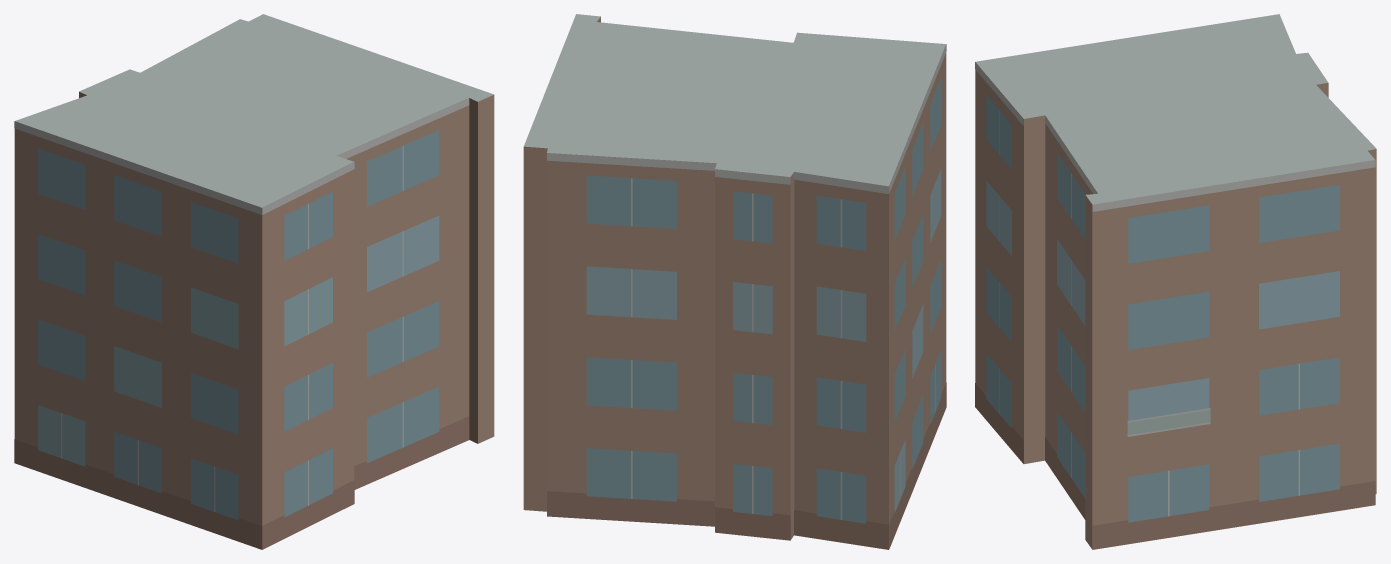
The model's file is survey-upis-32852981.glb.
3 renders of one model, left to right at view 1: azimuth 30°, elevation 25°; view 2: azimuth 150°, elevation 25°; view 3: azimuth 270°, elevation 25°, orthographic. The views are drawn at different scales.
Parts seen in each view (by area): view 1: survey-upis-32852981.tmp; view 2: survey-upis-32852981.tmp; view 3: survey-upis-32852981.tmp.
Part boxes in pixels (bbox=[...]): survey-upis-32852981.tmp: bbox=[14, 14, 494, 549]; survey-upis-32852981.tmp: bbox=[523, 14, 946, 549]; survey-upis-32852981.tmp: bbox=[975, 14, 1376, 549].
Bounding box in the file's own units: 13.57 × 11.45 × 12.08.
